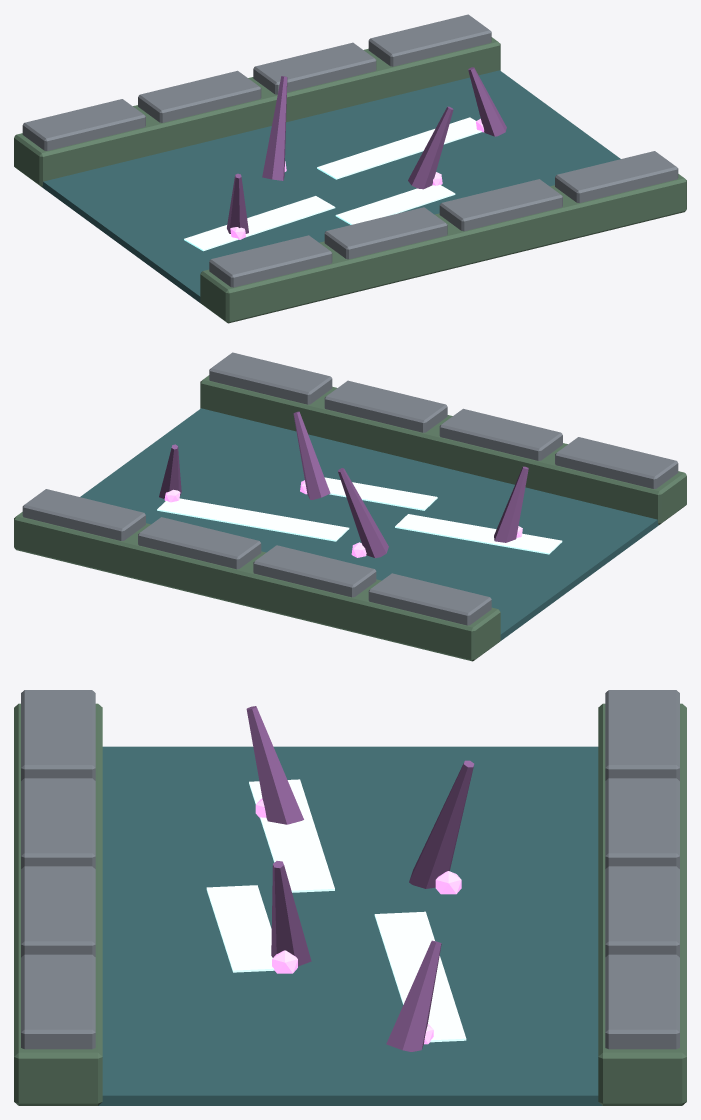
The model's file is outdoor_canal.glb.
3 views of the same model, one above another, from view 1: azimuth 30°, elevation 25°; view 2: azimuth 150°, elevation 25°; view 3: azimuth 270°, elevation 25° (orthographic). The views are drawn at different scales.
Parts seen in each view (by area): view 1: Outdoor_Canal; view 2: Outdoor_Canal; view 3: Outdoor_Canal.
Part boxes in pixels (x1,y1,x2,y2): Outdoor_Canal: (14, 14, 686, 323); Outdoor_Canal: (14, 352, 686, 661); Outdoor_Canal: (14, 690, 686, 1105).
Bounding box in the file's own units: 5 × 0.9754 × 4.03.
